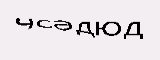И: (67, 21, 90, 47)
М: (37, 19, 64, 48)
П: (94, 19, 119, 48), (23, 20, 37, 41)
Р: (124, 20, 139, 49)
